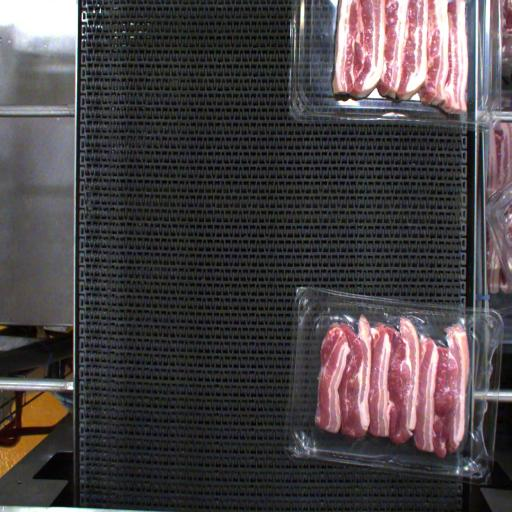unsealed: (301, 290, 494, 476)
